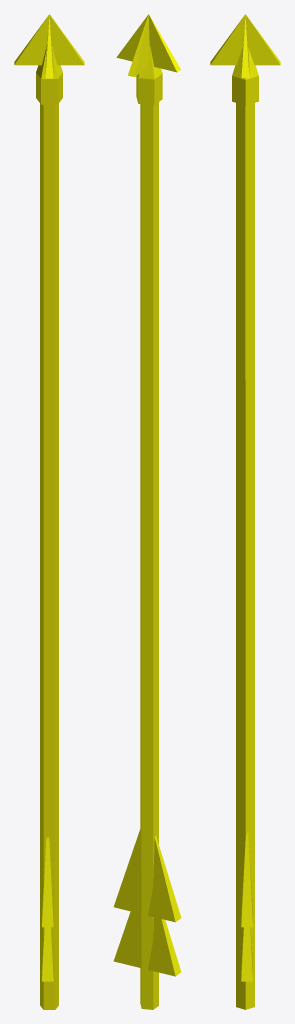
Rendered from _arrow_b_21.glb.
The picture shows the model from 3 angles, left to right: view 1: azimuth 90°, elevation 25°; view 2: azimuth 150°, elevation 25°; view 3: azimuth 270°, elevation 25°; orthographic projection.
Visible parts, largest first — view 1: arrow_b_21; view 2: arrow_b_21; view 3: arrow_b_21.
Boxes of the visible parts, x1,y1,x2,y2 form: arrow_b_21: [14, 14, 84, 1009]; arrow_b_21: [113, 14, 181, 1009]; arrow_b_21: [210, 14, 280, 1009].
Size of the model in its own units: 0.0379 by 0.579 by 0.0372.
1 material, 1 textured.
